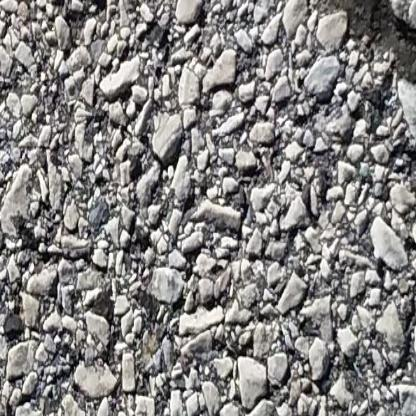Cracks: (298, 0, 416, 100), (60, 0, 122, 37), (410, 112, 416, 246)
